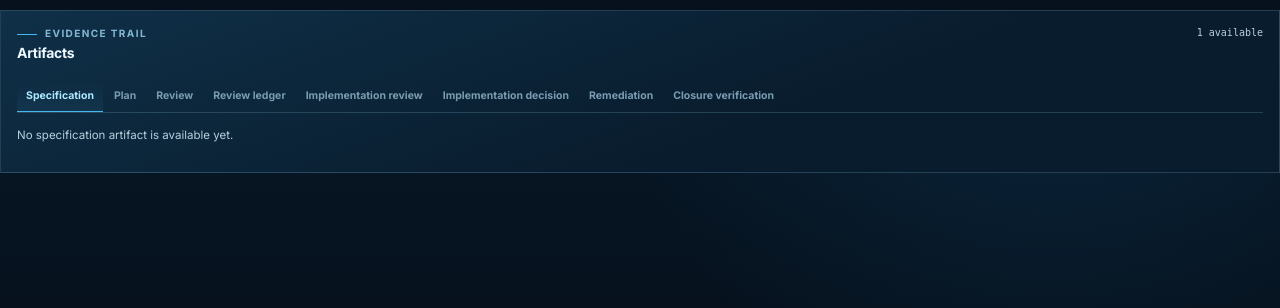
Test: ArtifactTabs › shows bounded implementation review artifacts
What coordinates should you click on to do the following:
click the tab "Implementation review"
I would click on:
 (364, 96)
Its box is x1=297 y1=81 x2=432 y2=112.
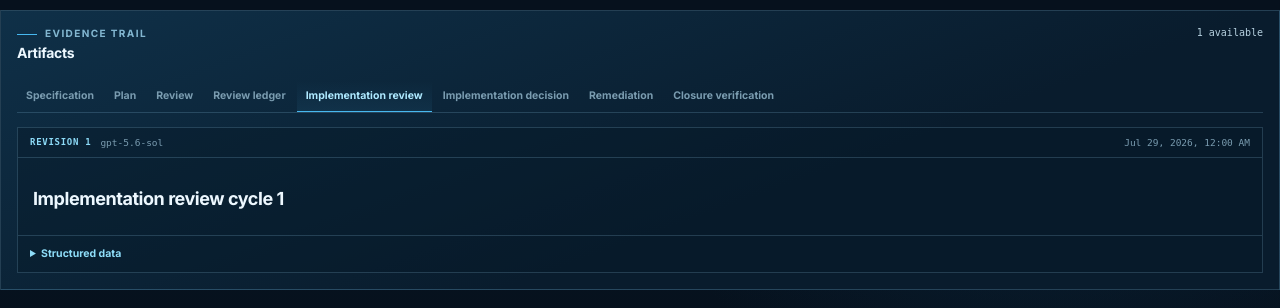
Expected: the tab "Implementation decision" is shown, x1=434 y1=81 x2=578 y2=112
Now the heading "Implementation review cycle 1" is shown, box x1=33 y1=188 x2=284 y2=209
